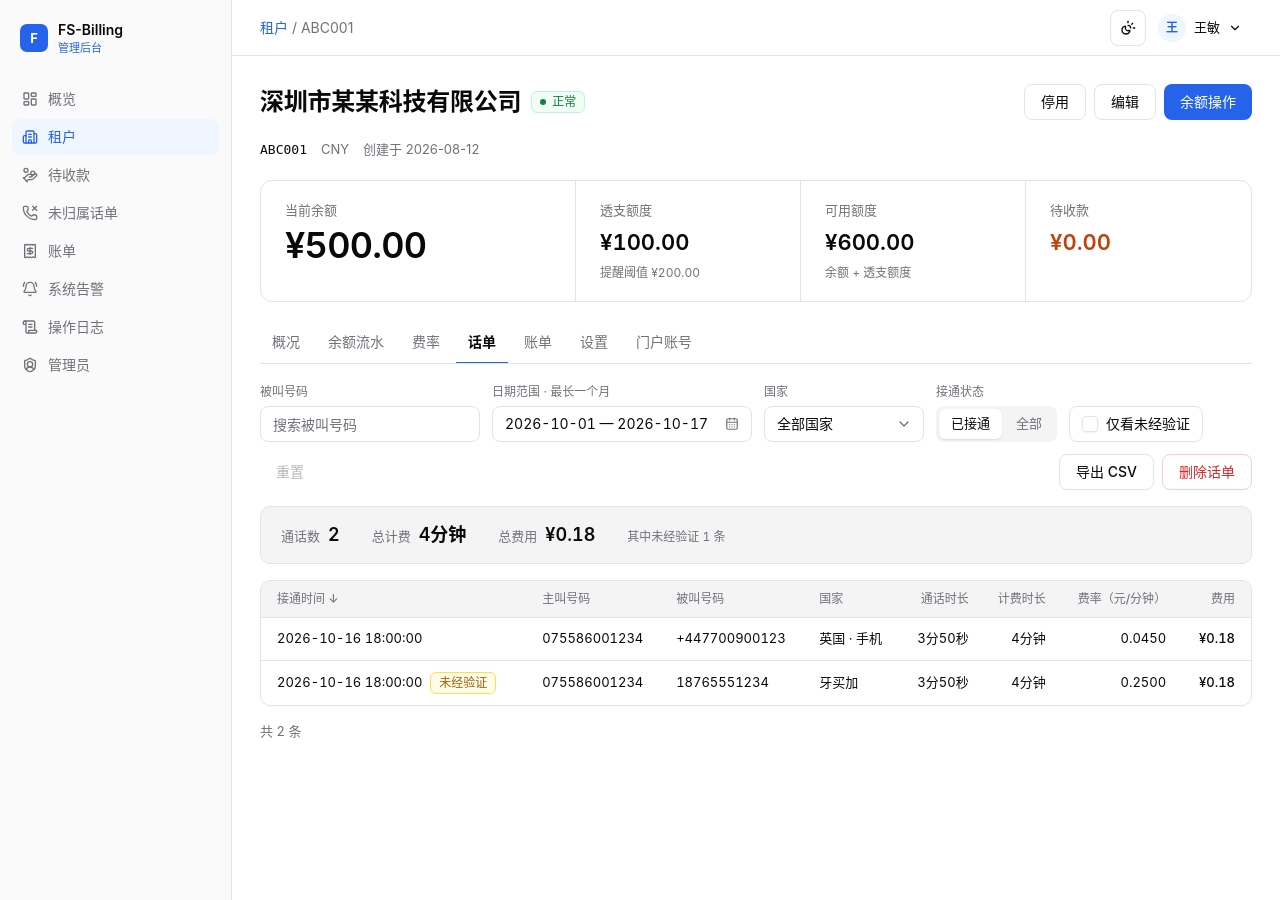
Test case: admin tenant CDR tab › a 401 while deleting asks the admin to sign in again
Expected: the table is shown, [261,581,1251,704]
Click the button "删除话单".
click(1207, 472)  # box [1162,454,1252,490]
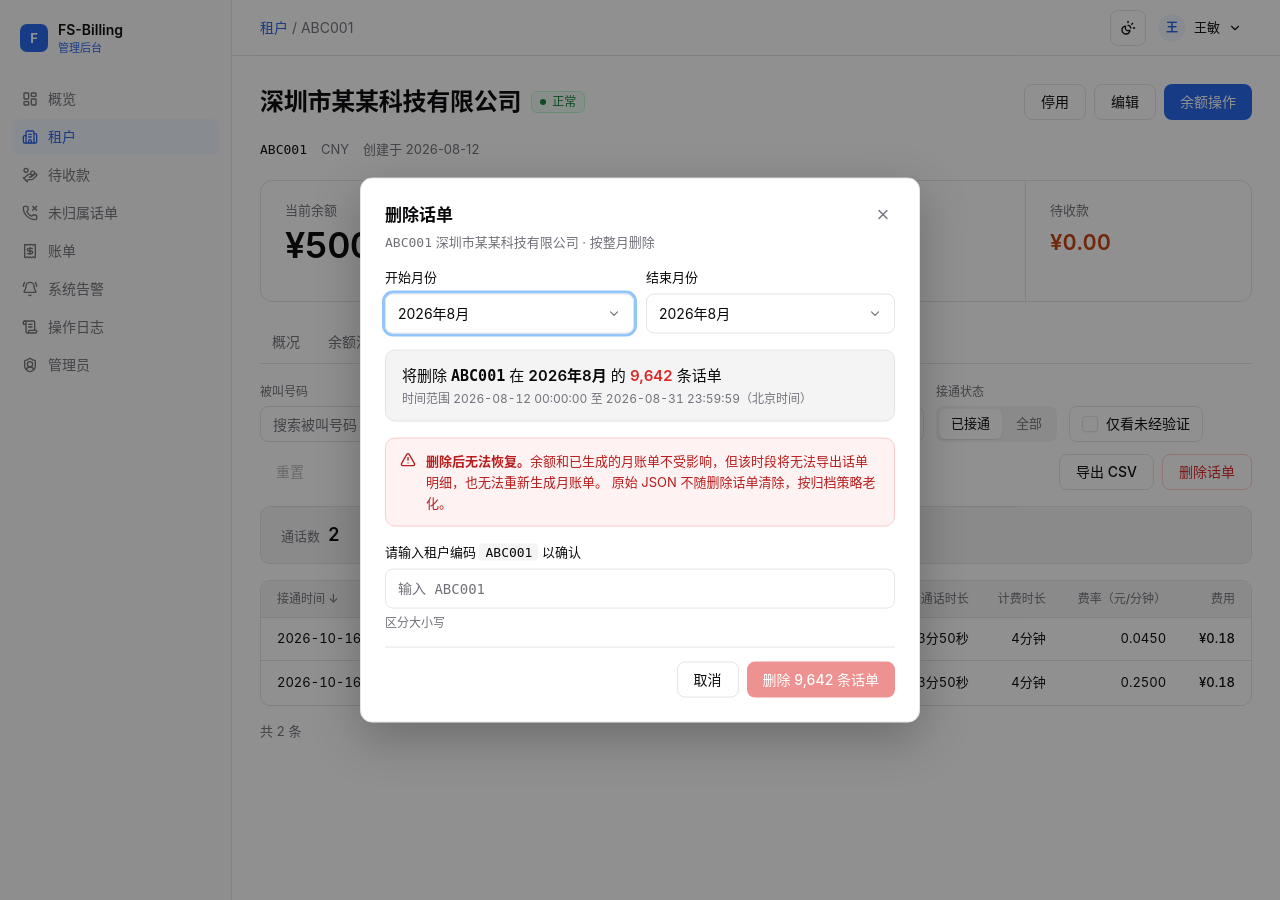
Expected: the button named "开始月份：2026年8月" is shown, [385,293,634,333]
Type "ABC001" into the field labelled "请输入租户编码 ABC001 以确认".
click(640, 588); type("ABC001")  # box [385,568,895,608]
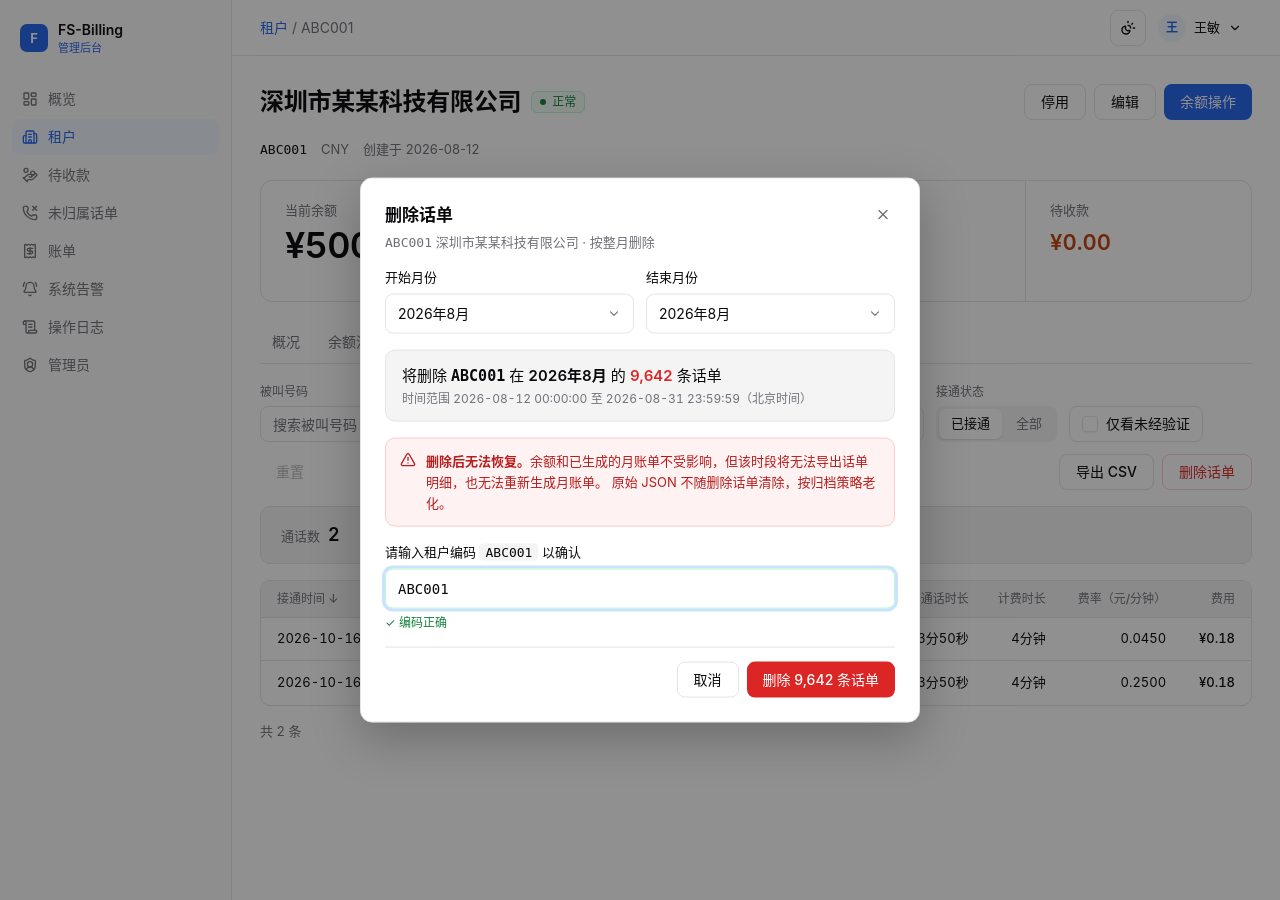
Click the button "删除 9,642 条话单".
click(821, 679)  # box [747,661,895,697]
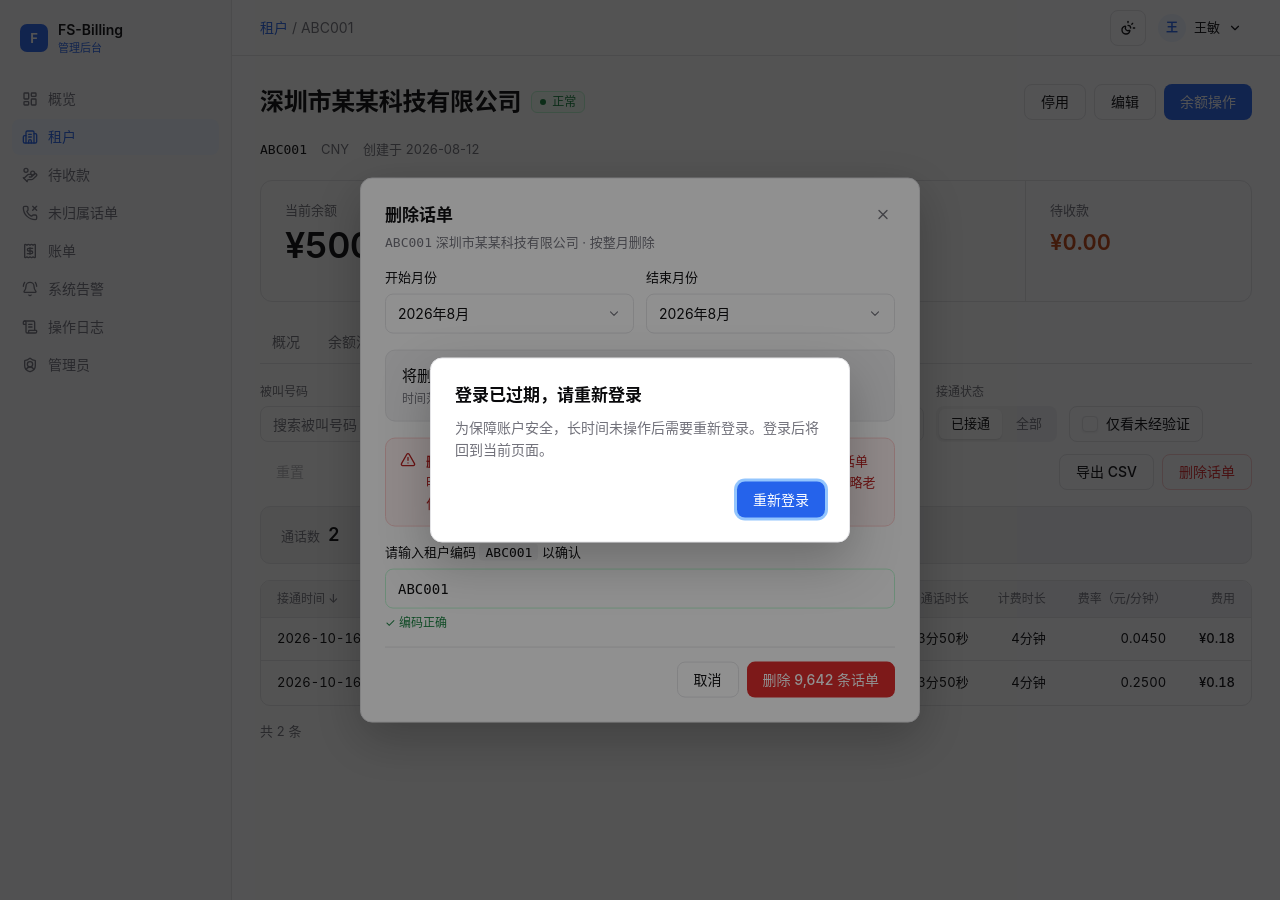
Expected: the dialog "删除话单" is shown, [360,178,920,722]
Click the button "重新登录".
click(781, 500)  # box [737,482,825,518]
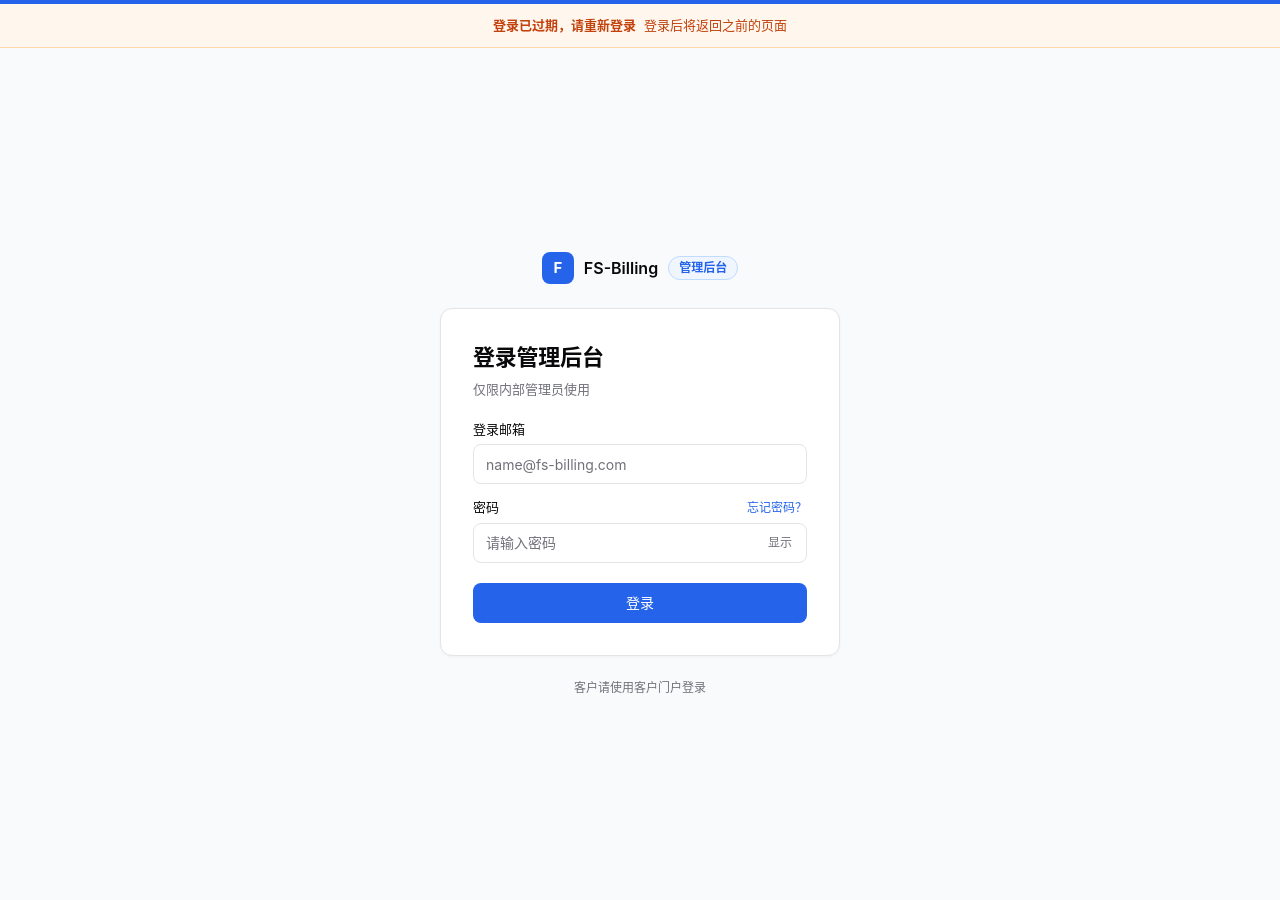
Expected: the message reads "登录已过期，请重新登录 登录后将返回之前的页面", [0,4,1279,48]
